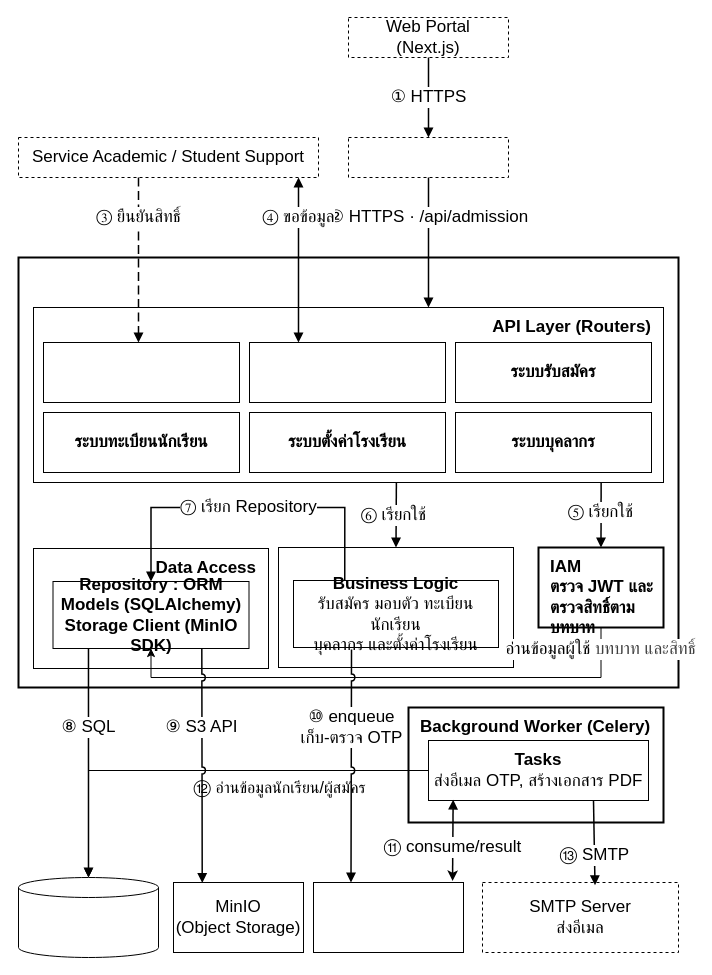
Some shapes in this 712 by 975 pixel diagram are drawn without their labels. The box of each missing label's shape, as (x1, y1, x2, y2) in pixels:
Internal API (สำหรับ Service Academic , Student Support ): (248, 342, 446, 402)
Nginx (Reverse Proxy): (348, 136, 508, 178)
PostgreSQL Schema: admission: (18, 876, 158, 958)
Redis (Message Broker/OTP Store): (312, 882, 464, 952)
Service Layer: (278, 546, 514, 668)
Service Registry & IAM API (FastAPI): (17, 256, 679, 688)
ยืนยันตัวตนและสิทธิ์ (endpoint สำหรับ login และขอ token): (42, 342, 240, 402)
